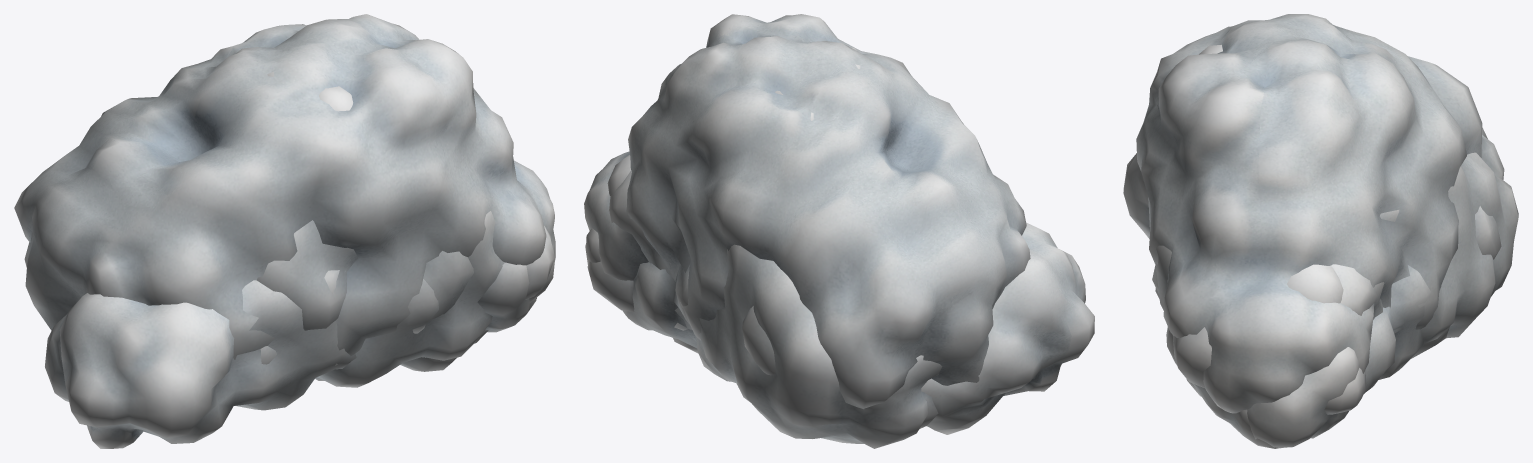
The model's file is clouds.fbx.
3 renders of one model, left to right at view 1: azimuth 30°, elevation 25°; view 2: azimuth 150°, elevation 25°; view 3: azimuth 270°, elevation 25°, orthographic. The views are drawn at different scales.
Parts seen in each view (by area): view 1: cloud_02, cloud_01, cloud_03; view 2: cloud_02, cloud_03, cloud_01; view 3: cloud_02, cloud_03, cloud_01.
Boxes of the visible parts, x1,y1,x2,y2 form: cloud_02: [14, 14, 555, 365]; cloud_01: [45, 86, 536, 448]; cloud_03: [256, 72, 555, 387]; cloud_02: [584, 14, 1030, 428]; cloud_03: [585, 64, 942, 448]; cloud_01: [587, 47, 1094, 434]; cloud_02: [1136, 14, 1504, 413]; cloud_03: [1155, 152, 1518, 447]; cloud_01: [1123, 44, 1384, 448].
Bounding box in the file's own units: 6923 × 4694 × 4769.
